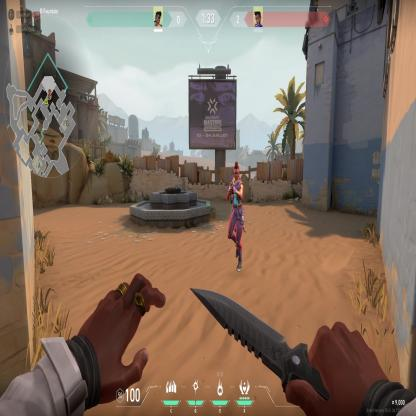enemy: (227, 160, 244, 277)
